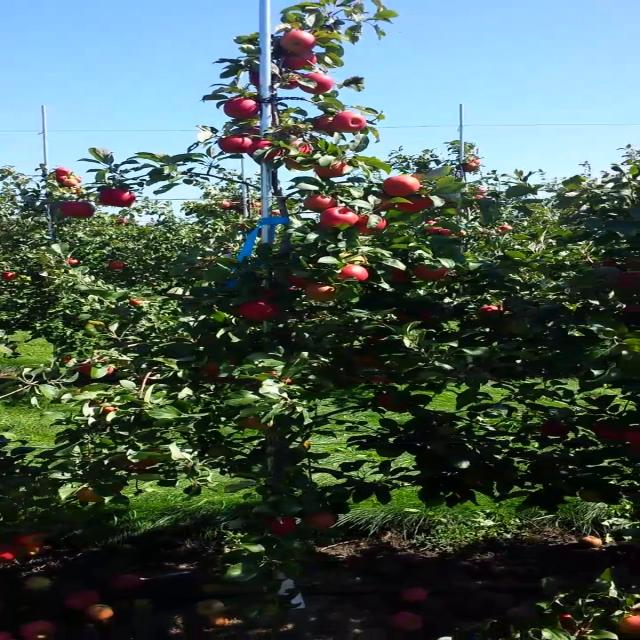apple: (3, 534, 49, 562), (238, 299, 282, 323), (220, 96, 262, 120), (122, 448, 162, 472), (379, 176, 422, 198), (317, 206, 358, 229), (313, 158, 355, 179), (278, 31, 318, 53), (246, 139, 283, 162), (298, 193, 338, 213), (97, 187, 135, 208), (300, 72, 335, 94), (283, 51, 321, 71), (396, 193, 433, 213), (216, 136, 252, 156), (303, 283, 339, 303), (303, 511, 339, 531), (331, 111, 366, 131), (59, 200, 97, 218), (355, 214, 389, 234), (264, 517, 298, 537), (411, 263, 447, 281), (335, 263, 369, 282), (270, 70, 302, 90), (76, 363, 114, 379), (613, 611, 639, 633), (378, 393, 406, 413), (204, 362, 230, 382), (540, 419, 572, 435), (238, 414, 265, 430), (400, 309, 432, 322), (72, 488, 101, 502), (285, 274, 312, 288), (619, 272, 639, 290), (375, 194, 397, 210), (473, 304, 499, 316), (267, 370, 293, 382), (596, 426, 618, 440), (315, 115, 333, 131), (293, 140, 311, 156), (388, 265, 406, 281), (354, 355, 378, 367), (96, 404, 117, 416), (554, 611, 576, 621), (370, 375, 396, 383), (623, 430, 637, 444), (249, 69, 259, 88), (621, 306, 639, 314)
